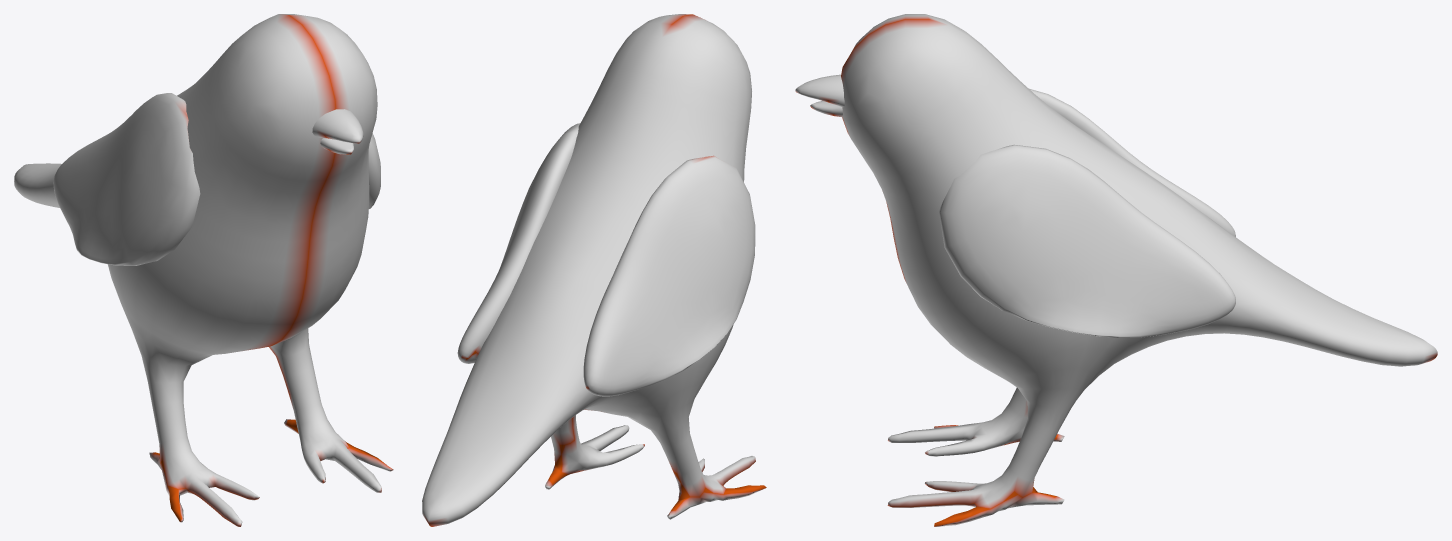
Rendered from Birb.fbx.
3 renders of one model, left to right at view 1: azimuth 30°, elevation 25°; view 2: azimuth 150°, elevation 25°; view 3: azimuth 270°, elevation 25°, orthographic. The views are drawn at different scales.
Visible parts, largest first — view 1: PM3D_Sphere3D1_SeamsColor; view 2: PM3D_Sphere3D1_SeamsColor; view 3: PM3D_Sphere3D1_SeamsColor.
Part boxes in pixels (x1,y1,x2,y2): PM3D_Sphere3D1_SeamsColor: (14,14,393,526); PM3D_Sphere3D1_SeamsColor: (422,14,766,526); PM3D_Sphere3D1_SeamsColor: (795,14,1437,526).
Bounding box in the file's own units: 1.04 × 1.93 × 2.44.
